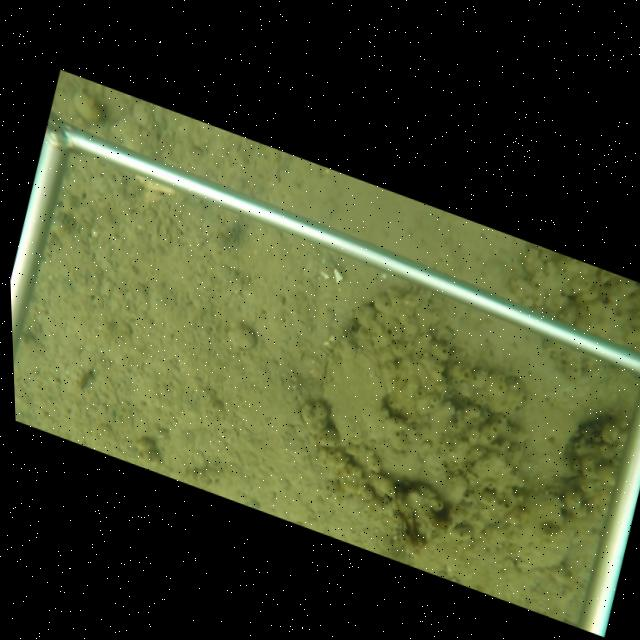Oyster-Closed: (317, 330, 474, 511)
Oyster-Indeterminate: (509, 491, 576, 574)
